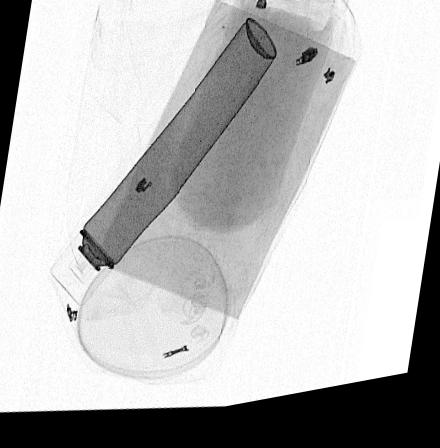Sprayer: (49, 24, 277, 310)
